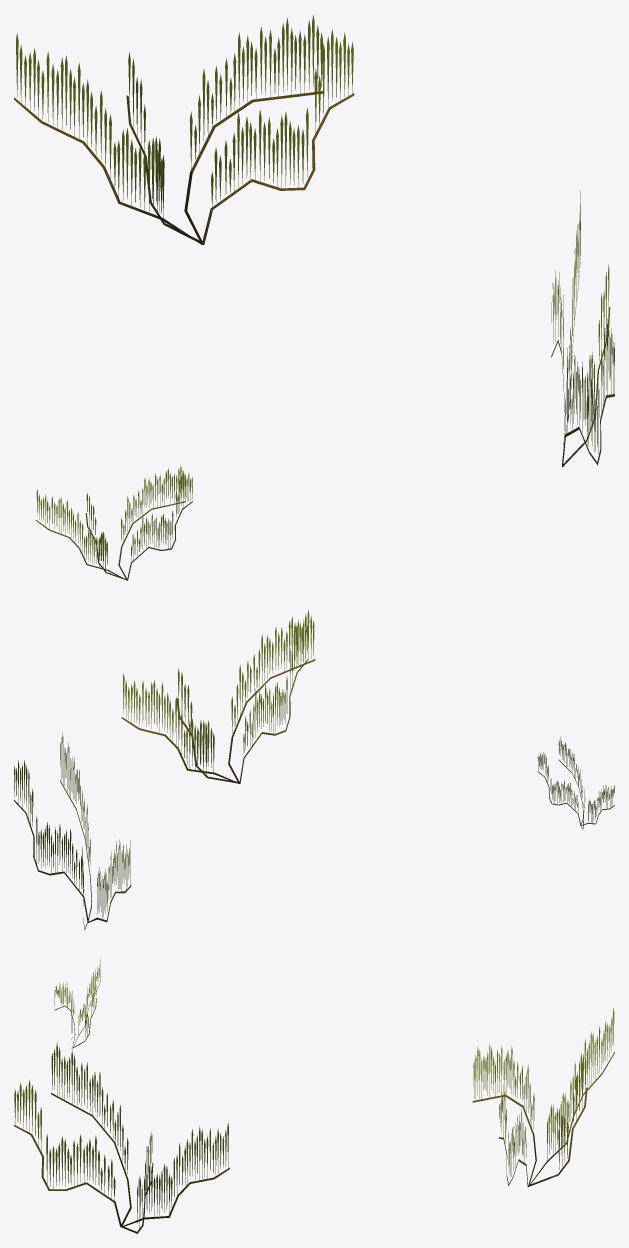
File: Plant_04.FBX
The picture shows the model from 3 angles, top to bottom: view 1: azimuth 30°, elevation 25°; view 2: azimuth 150°, elevation 25°; view 3: azimuth 270°, elevation 25°; orthographic projection. The views are drawn at different scales.
Parts seen in each view (by area): view 1: Plant_04; view 2: Plant_04; view 3: Plant_04.
Boxes of the visible parts, x1,y1,x2,y2 form: Plant_04: (14, 15, 614, 580); Plant_04: (14, 609, 614, 930); Plant_04: (14, 959, 614, 1233).
Size of the model in its own units: 24.45 by 9.67 by 28.65.
